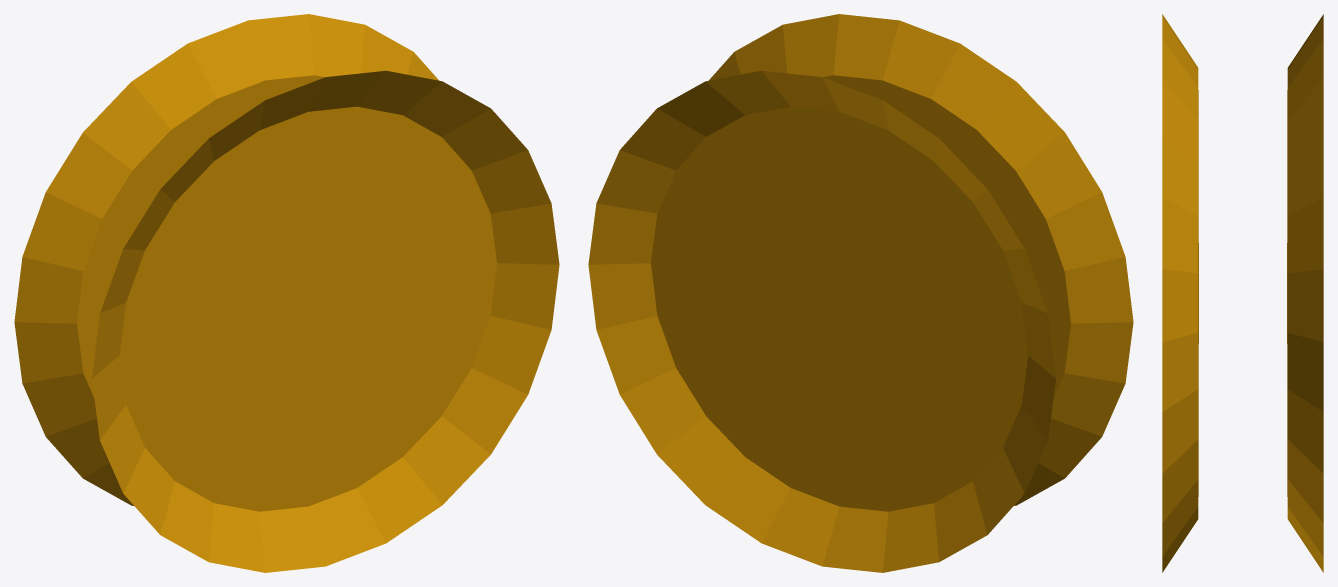
The model's file is left_hubcap.dae.
The picture shows the model from 3 angles, left to right: view 1: azimuth 30°, elevation 25°; view 2: azimuth 150°, elevation 25°; view 3: azimuth 270°, elevation 25°; orthographic projection. The views are drawn at different scales.
Visible parts, largest first — view 1: Left_Hubcap; view 2: Left_Hubcap; view 3: Left_Hubcap.
Boxes of the visible parts, bbox=[...] form: Left_Hubcap: bbox=[14, 14, 559, 572]; Left_Hubcap: bbox=[588, 14, 1133, 572]; Left_Hubcap: bbox=[1162, 14, 1323, 572].
Size of the model in its own units: 0.1045 by 0.03 by 0.1045.
